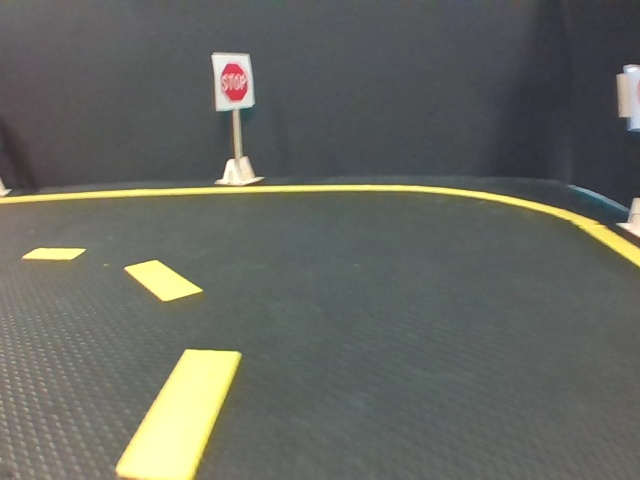stop: (214, 54, 254, 106)
